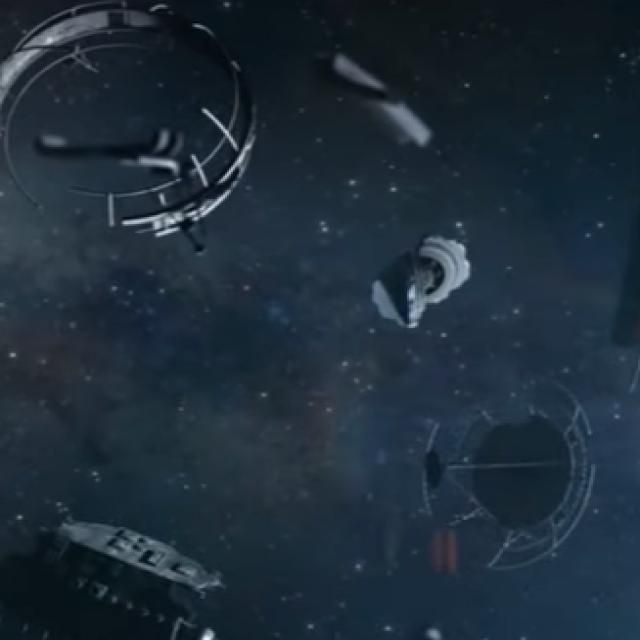large_debris: (0, 0, 265, 259), (401, 374, 604, 592), (15, 511, 243, 637), (299, 38, 445, 166), (369, 220, 481, 333)
